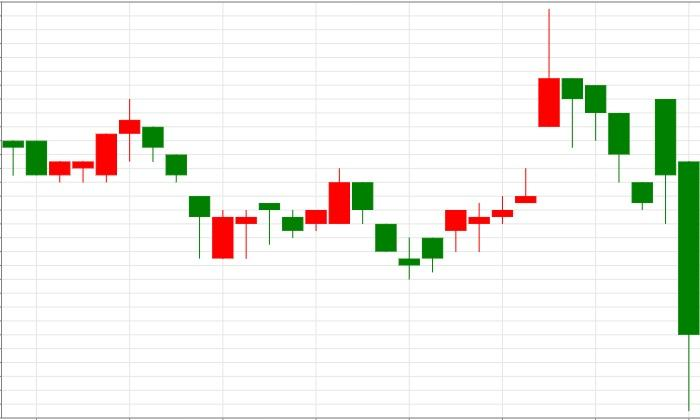hanging_man_fall: (445, 9, 583, 253)
